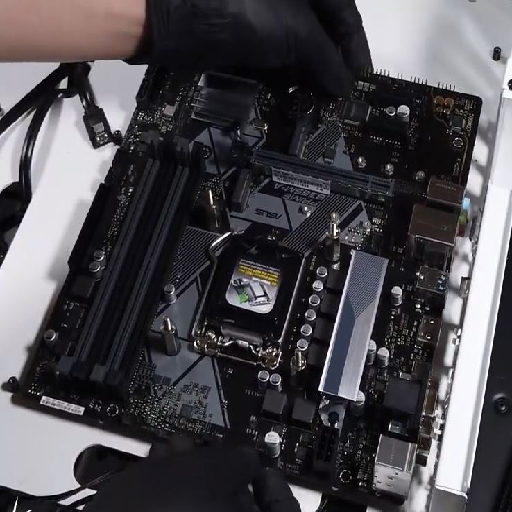CPU: (195, 231, 306, 370)
GPU: (225, 140, 395, 203)
MOTHERBOARD: (12, 72, 481, 504)
RAM: (59, 131, 207, 402)
SSD: (231, 168, 253, 213), (289, 122, 308, 157)
